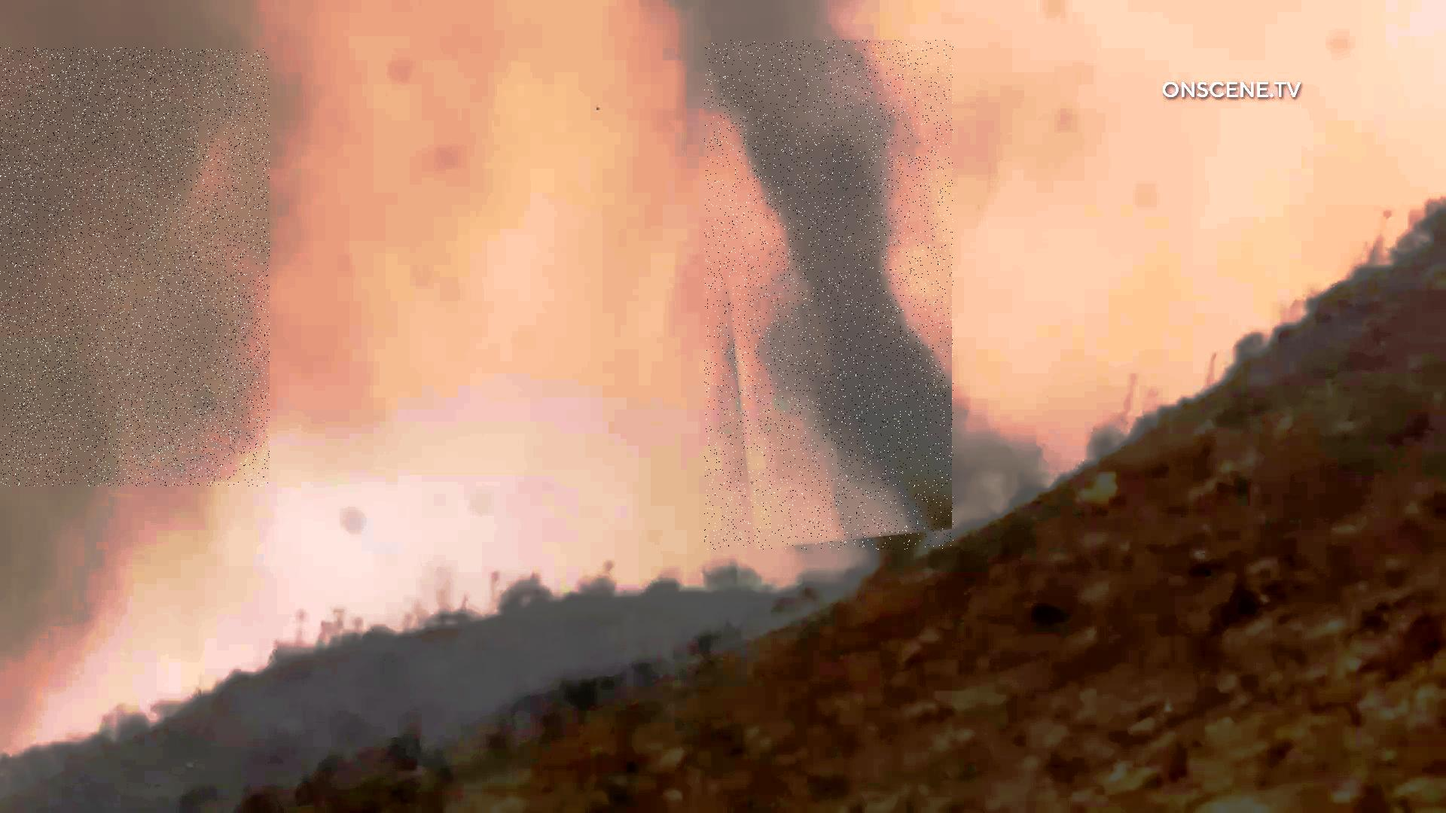smoke: (705, 40, 954, 550), (0, 48, 270, 486)
